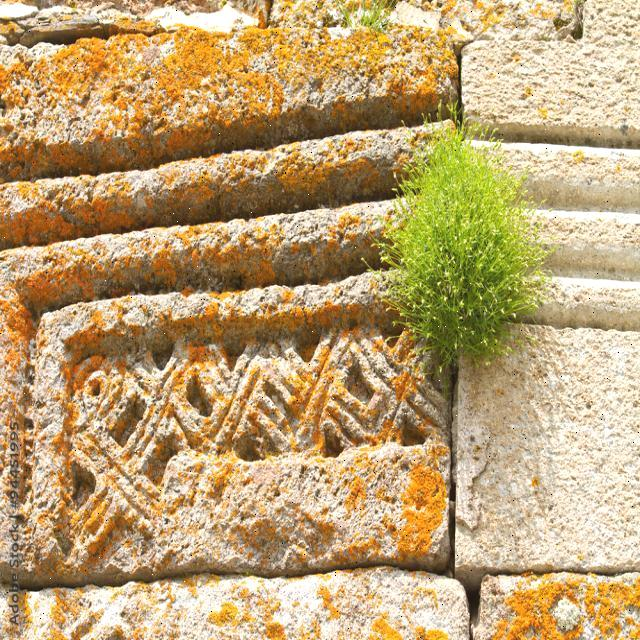crack: (459, 2, 635, 149), (454, 33, 474, 150), (120, 304, 149, 327)
dampens: (6, 152, 134, 186)
vegetation: (371, 102, 558, 383), (468, 0, 578, 47), (440, 2, 505, 40), (389, 2, 453, 36), (341, 0, 398, 31), (1, 18, 26, 45)
